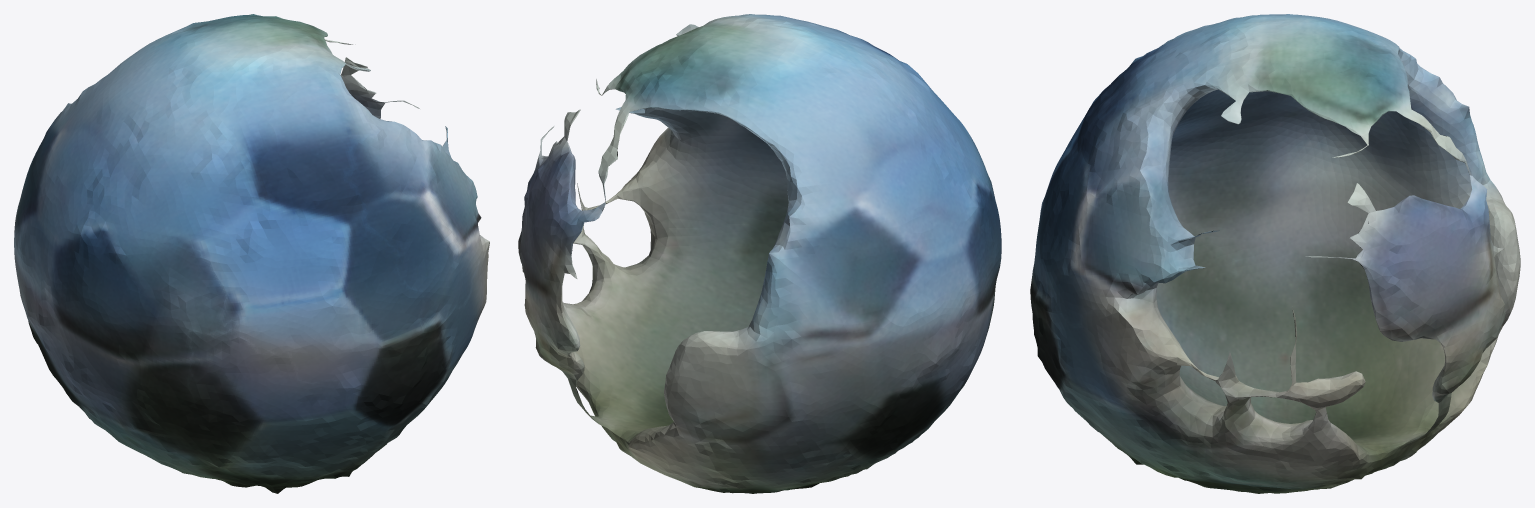
The model's file is sock563.glb.
3 renders of one model, left to right at view 1: azimuth 30°, elevation 25°; view 2: azimuth 150°, elevation 25°; view 3: azimuth 270°, elevation 25°, orthographic. The views are drawn at different scales.
Size of the model in its own units: 0.5386 by 0.5332 by 0.5374.
Materials: 1 (1 with a texture image).
